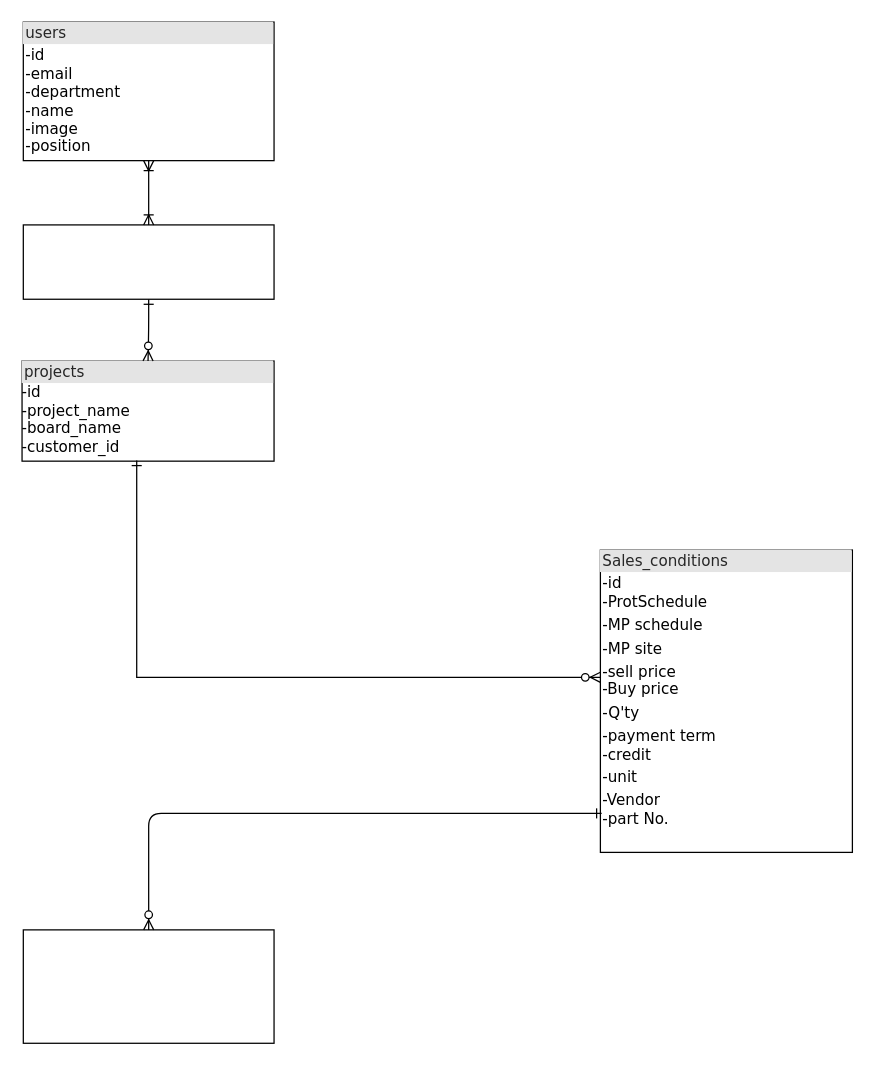
Image size: 874x1066. Some labels were removed from this diagram. Each missing label, with the centre of its shape:
customers -id -customer_name: the point at 148,261
Status -id -picture -report: the point at 148,986
